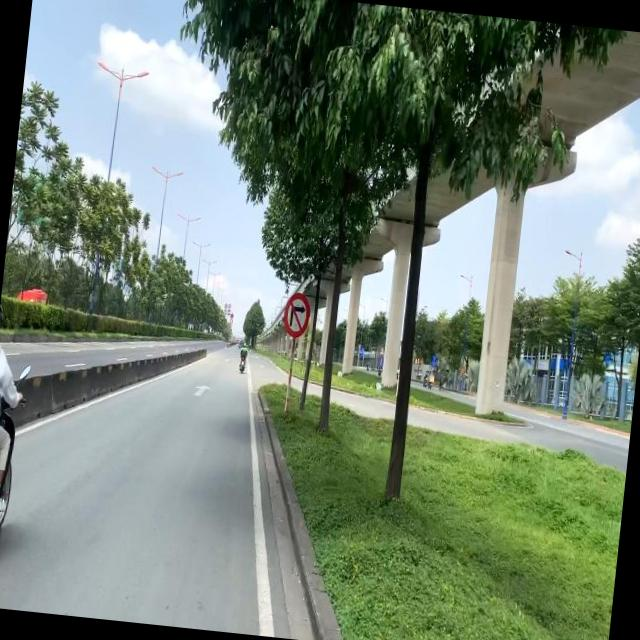P-123b: (282, 290, 310, 336)
